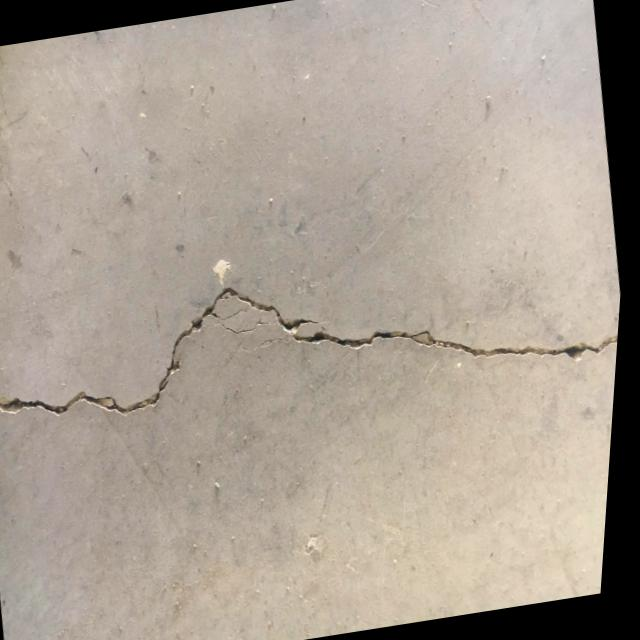Crack: (217, 217, 629, 418), (0, 271, 253, 448)
